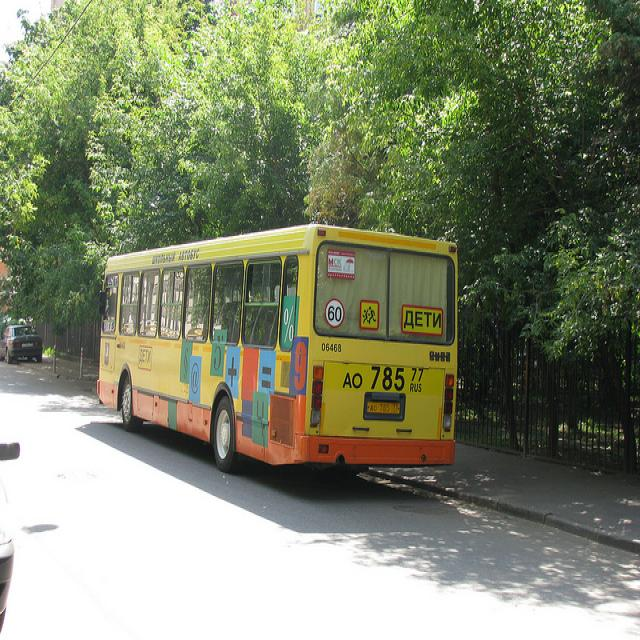Vehicle: (97, 220, 460, 476), (1, 325, 43, 364)
